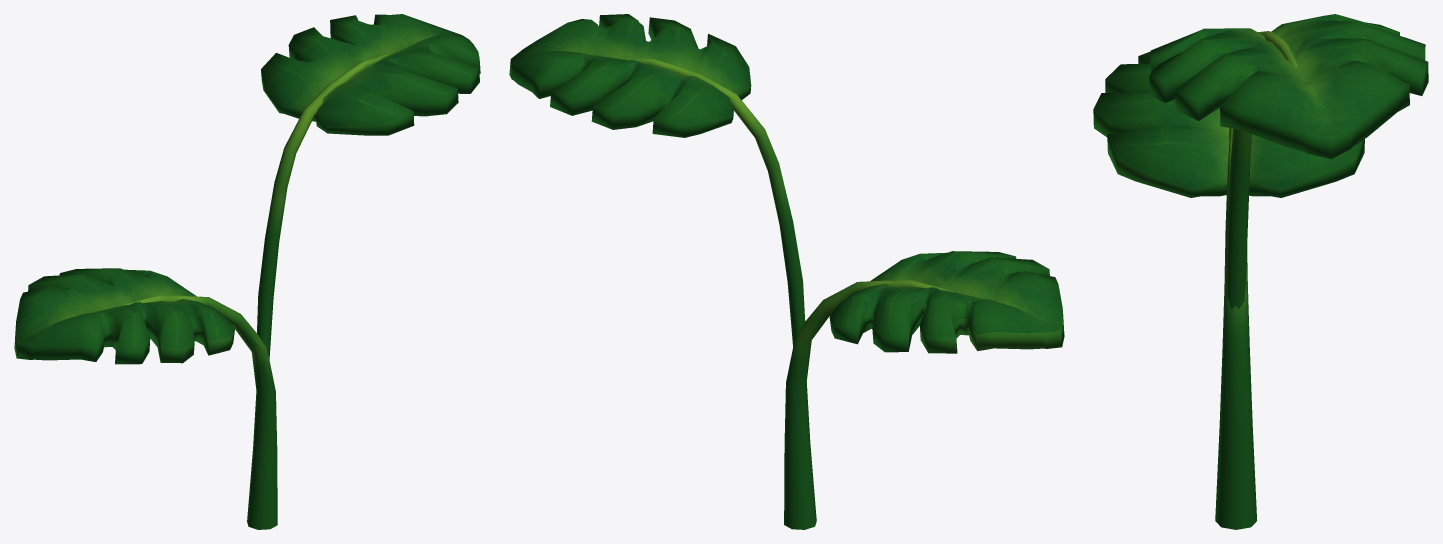
The model's file is CostelaDeAdao.fbx.
The picture shows the model from 3 angles, left to right: view 1: azimuth 30°, elevation 25°; view 2: azimuth 150°, elevation 25°; view 3: azimuth 270°, elevation 25°; orthographic projection. The views are drawn at different scales.
Visible parts, largest first — view 1: CostelaDeAdao; view 2: CostelaDeAdao; view 3: CostelaDeAdao.
Boxes of the visible parts, bbox=[...] form: CostelaDeAdao: bbox=[14, 14, 480, 529]; CostelaDeAdao: bbox=[509, 14, 1064, 529]; CostelaDeAdao: bbox=[1093, 14, 1428, 529].
Size of the model in its own units: 300 by 256 by 137.
